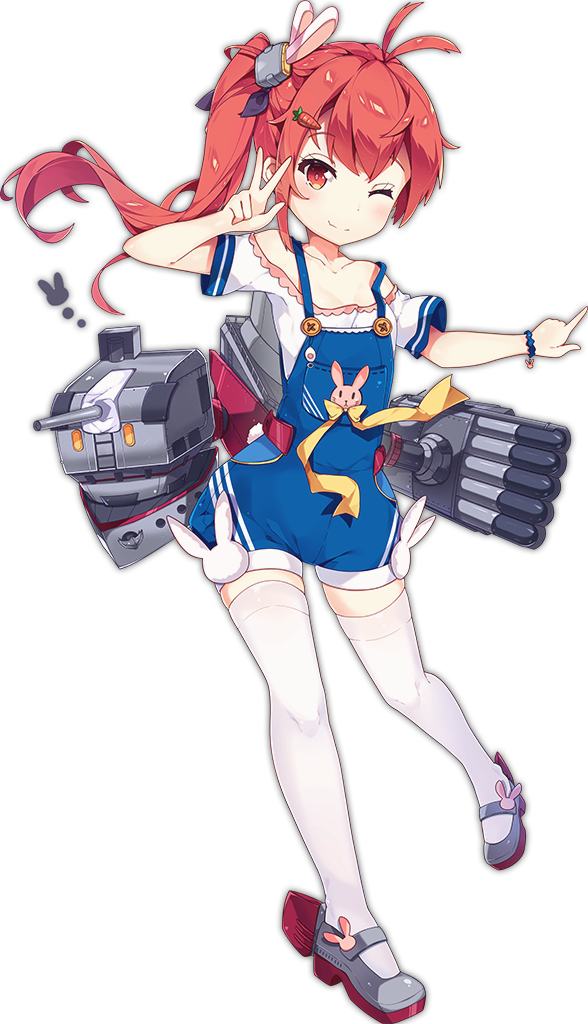person: (95, 35, 533, 799)
